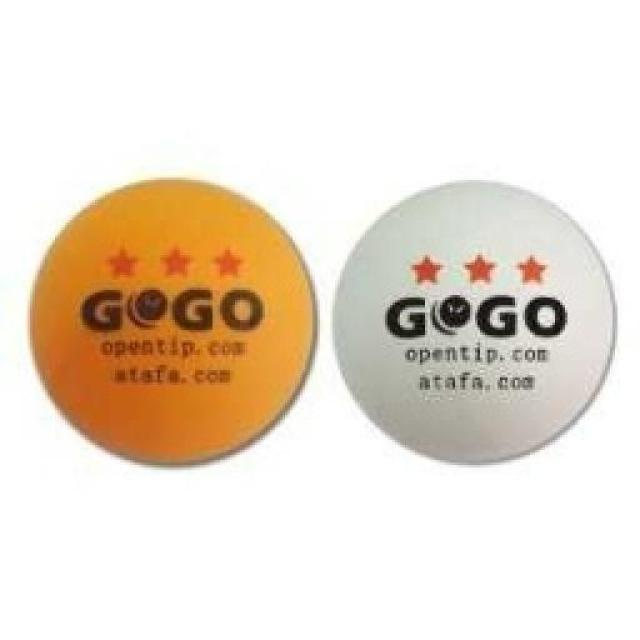oball: (29, 179, 314, 462)
